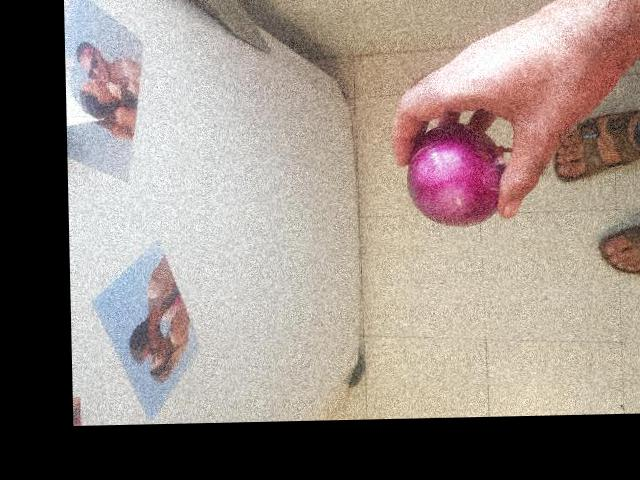onion: (404, 112, 509, 230)
